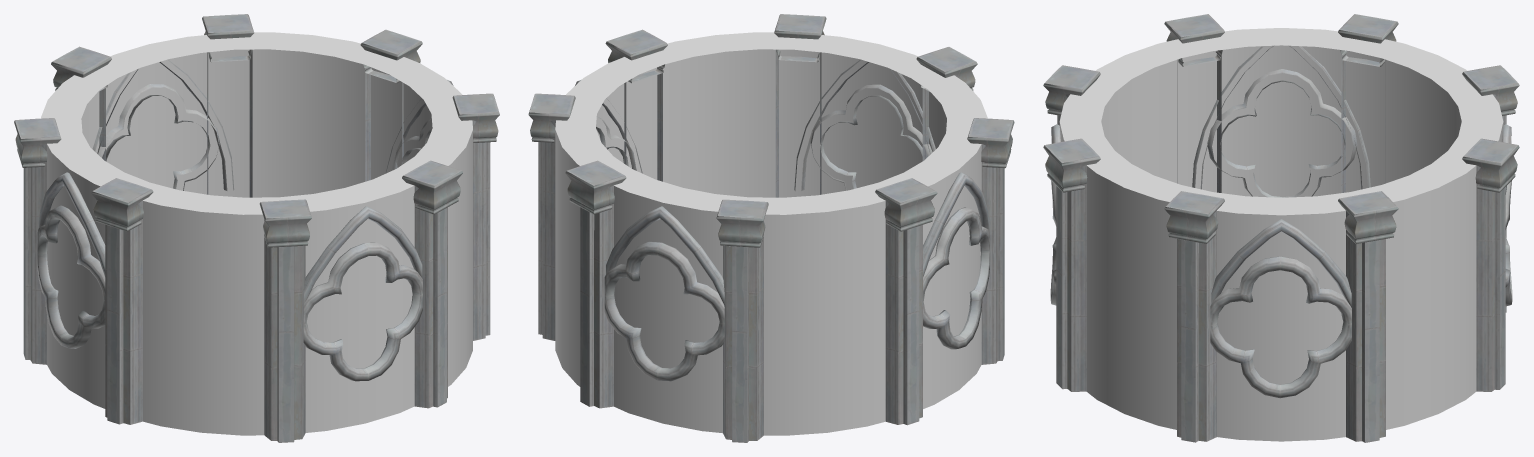
Rendered from SM_TowerB_Mid_02.fbx.
The picture shows the model from 3 angles, left to right: view 1: azimuth 30°, elevation 25°; view 2: azimuth 150°, elevation 25°; view 3: azimuth 270°, elevation 25°; orthographic projection. The views are drawn at different scales.
Parts seen in each view (by area): view 1: SM_TowerB_Mid_02_LOD0; view 2: SM_TowerB_Mid_02_LOD0; view 3: SM_TowerB_Mid_02_LOD0.
Part boxes in pixels (bbox=[...]): SM_TowerB_Mid_02_LOD0: bbox=[14, 14, 499, 442]; SM_TowerB_Mid_02_LOD0: bbox=[528, 14, 1014, 442]; SM_TowerB_Mid_02_LOD0: bbox=[1043, 14, 1519, 442].
Size of what is drawn, in the model's own units: 8.58 by 4.65 by 8.58.
